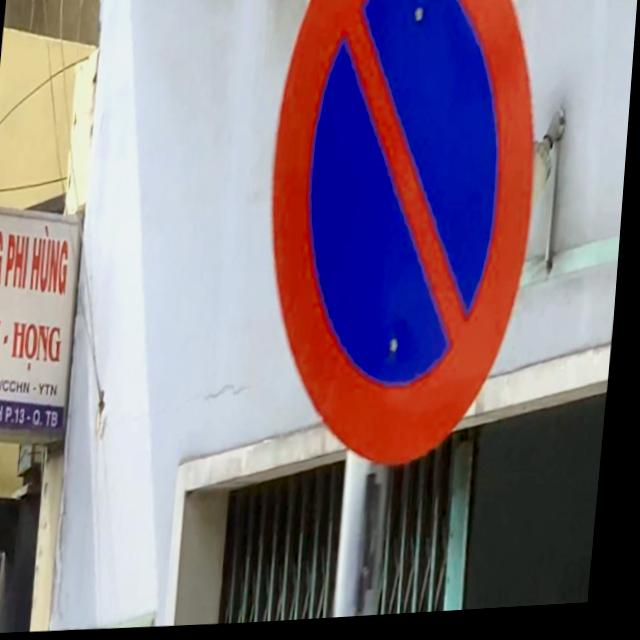Cam do xe: (243, 0, 554, 489)
